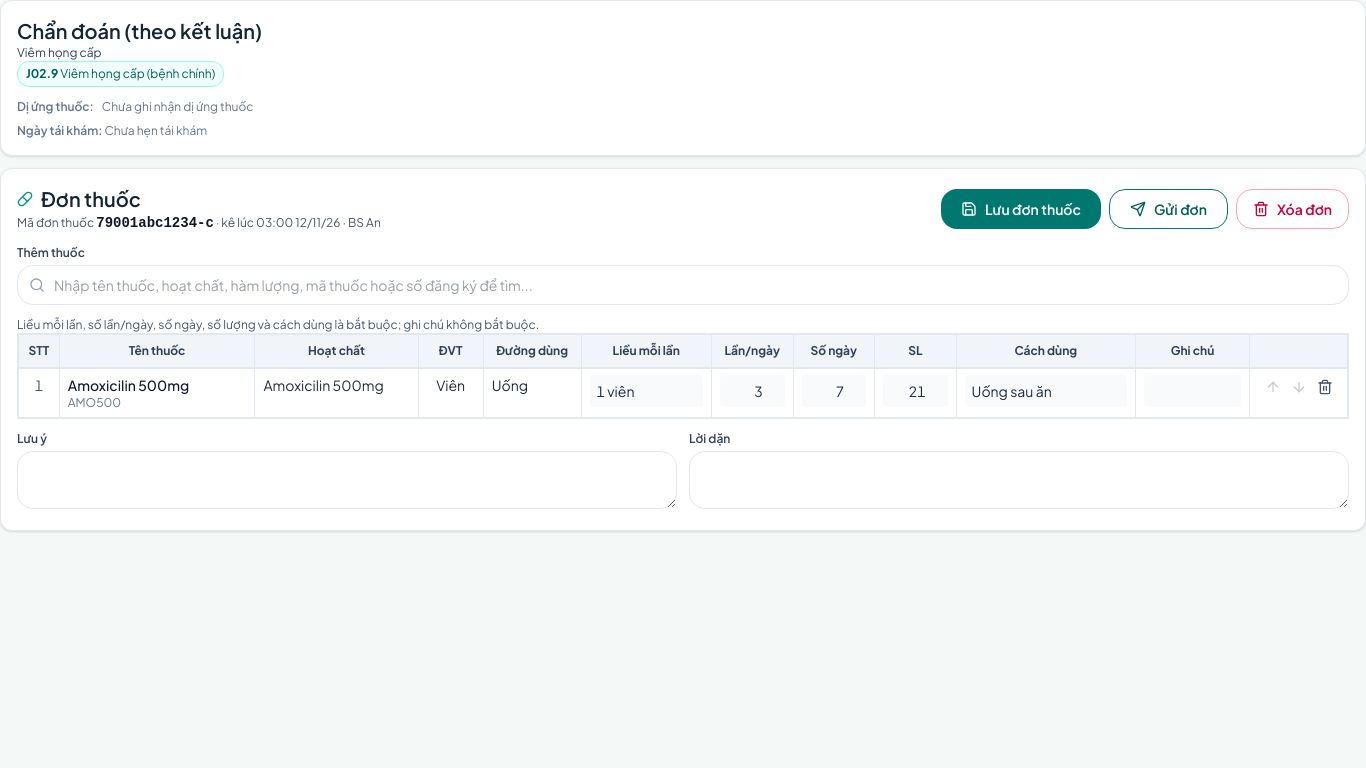
Test case: PrescriptionPanel (UC-59 AF-03 Xóa đơn thuốc) › shows MSG115 when the prescription was sent meanwhile
Click the button "Xóa đơn" at (1292, 209), box [1236,189,1349,229]
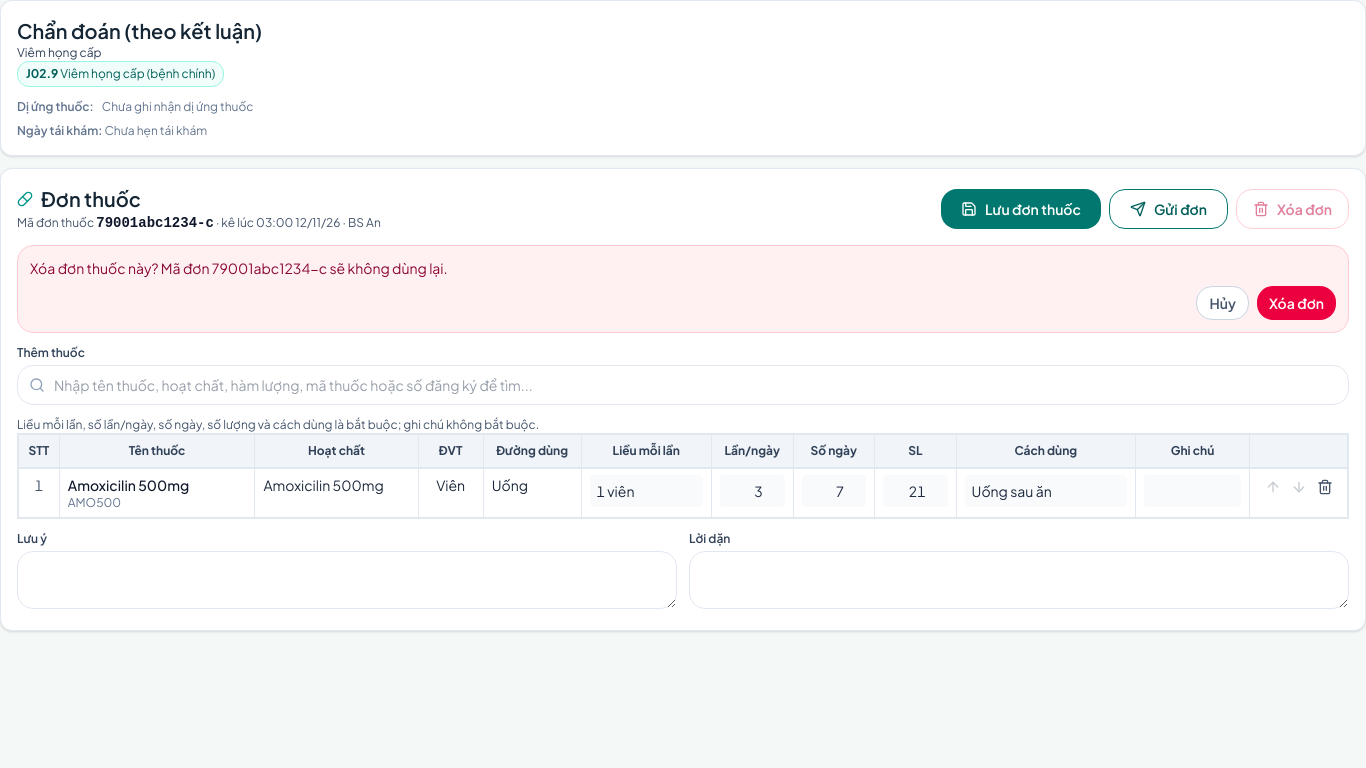
Click the 2nd button "Xóa đơn" at (1296, 303), box [1257,286,1336,320]
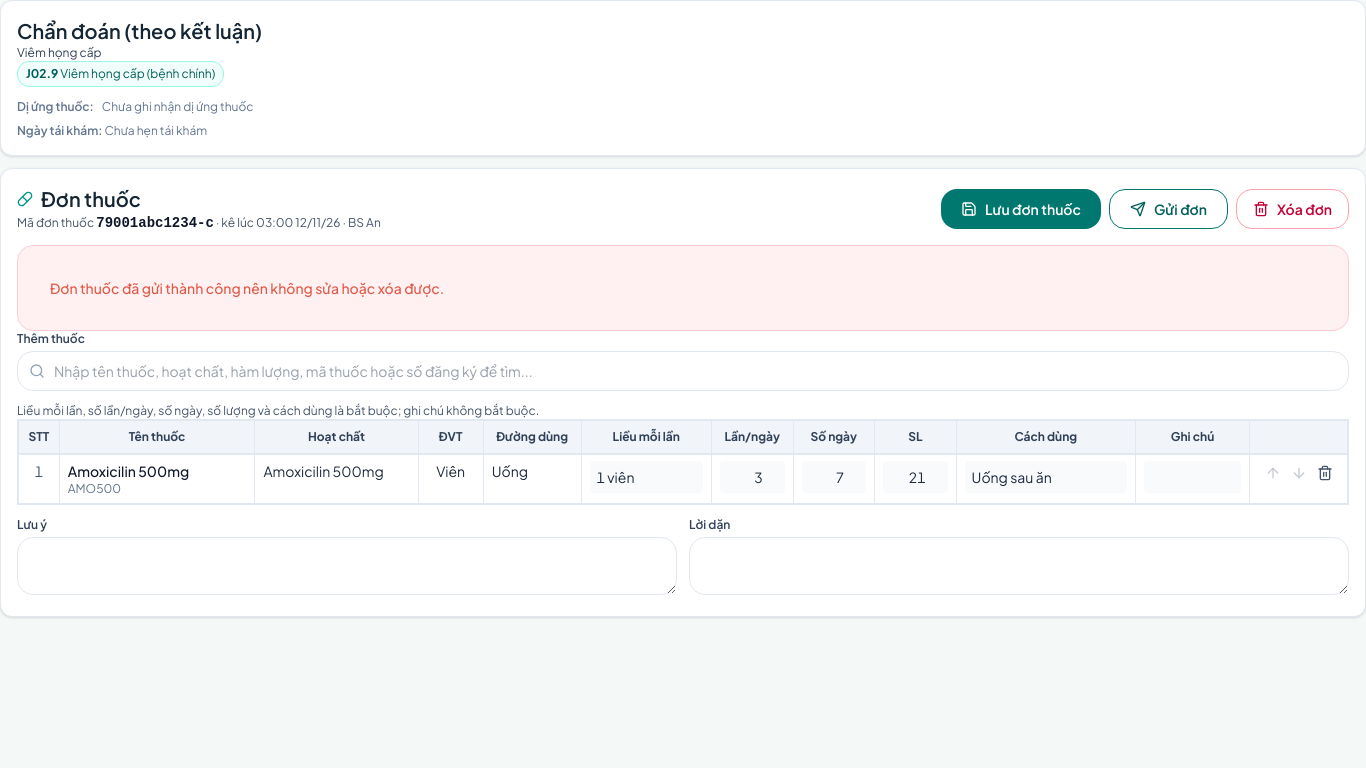
Now the message reads "Đơn thuốc đã gửi thành công nên không sửa hoặc xóa được.", box [50,279,444,297]
